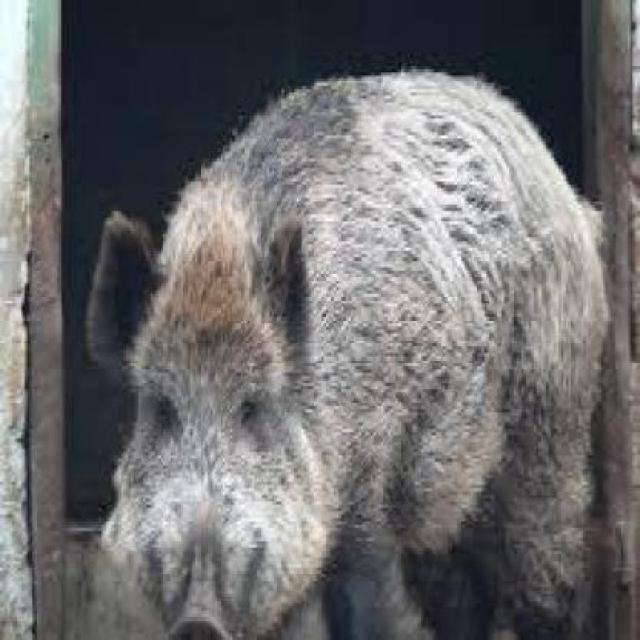wildboar: (82, 61, 614, 640)
